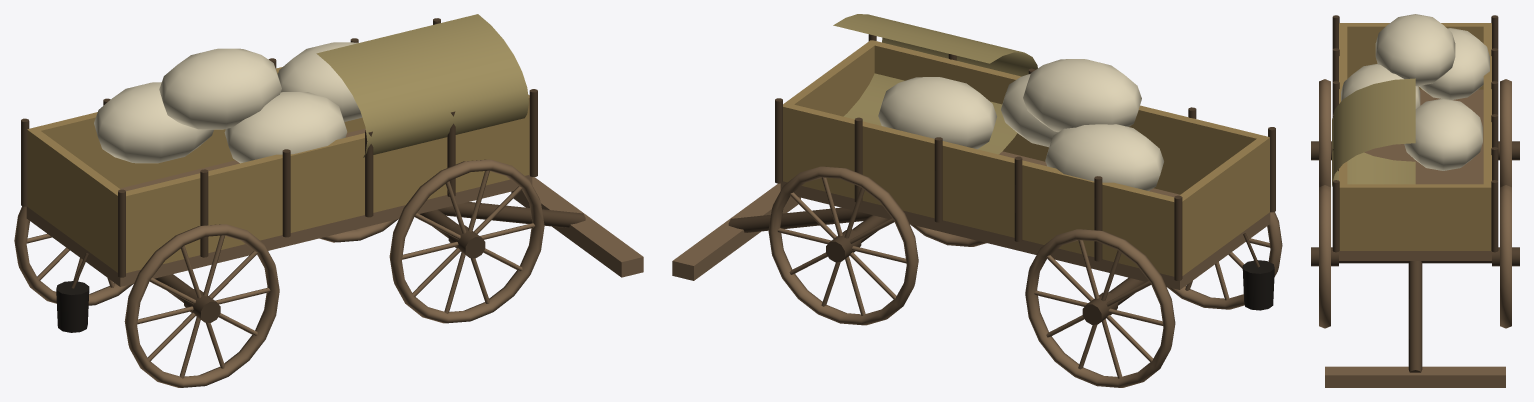
Rendered from maza.glb.
3 views of the same model, side by side, from view 1: azimuth 30°, elevation 25°; view 2: azimuth 150°, elevation 25°; view 3: azimuth 270°, elevation 25° (orthographic). The views are drawn at different scales.
Parts seen in each view (by area): view 1: side (×2), sack (×4), mat, rim (×4), end, bed, stake (×6), yoke, drawbar, kvach, hub (×2); view 2: side (×2), sack (×4), rim (×4), end (×2), mat, bed, stake (×7), yoke, drawbar, kvach, hub (×2); view 3: sack (×4), end (×2), mat, rim (×4), bed, yoke, side (×2), stake (×10), drawbar, hub (×3), axle.
Boxes of the visible parts, x1,y1,x2,y2 form: side (×2): (27, 67, 529, 272); sack (×4): (94, 42, 362, 163); mat: (316, 14, 528, 157); rim (×4): (14, 159, 544, 387); end: (27, 129, 128, 272); bed: (26, 128, 532, 286); stake (×6): (21, 89, 537, 277); yoke: (511, 177, 643, 277); drawbar: (438, 202, 585, 227); kvach: (56, 281, 89, 332); hub (×2): (184, 224, 485, 322); side (×2): (783, 40, 1269, 276); sack (×4): (878, 59, 1163, 190); rim (×4): (768, 166, 1282, 387); end (×2): (783, 40, 1269, 275); mat: (833, 14, 1037, 154); bed: (780, 151, 1270, 289); stake (×7): (775, 98, 1275, 280); yoke: (672, 183, 800, 280); drawbar: (728, 207, 871, 232); kvach: (1242, 260, 1274, 310); hub (×2): (826, 229, 1117, 324); sack (×4): (1341, 14, 1489, 170); end (×2): (1339, 23, 1491, 250); mat: (1332, 78, 1415, 186); rim (×4): (1319, 79, 1511, 328); bed: (1339, 89, 1491, 260); yoke: (1325, 366, 1505, 387); side (×2): (1339, 23, 1491, 250); stake (×10): (1332, 15, 1498, 252); drawbar: (1408, 261, 1422, 372); hub (×3): (1311, 141, 1519, 266); axle: (1339, 261, 1491, 263).
Bounding box in the file's own units: 3.72 × 1.77 × 1.5.
